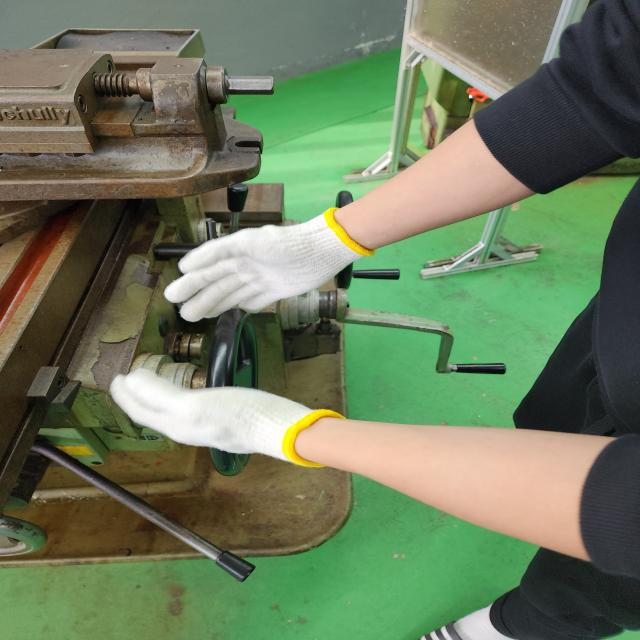Boots: (165, 209, 378, 319), (111, 368, 331, 469)
